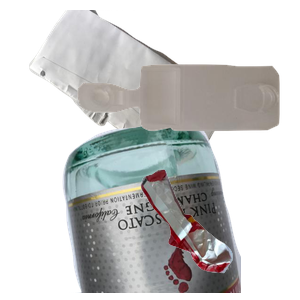glass: (60, 120, 300, 300)
paper: (27, 10, 252, 187)
plastic: (75, 62, 300, 186)
trash: (139, 167, 300, 300)
